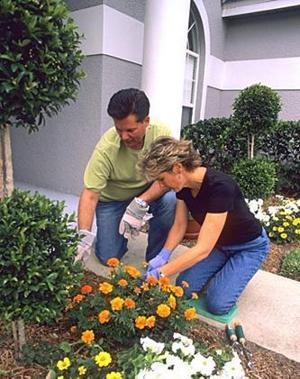person: (139, 134, 271, 314)
